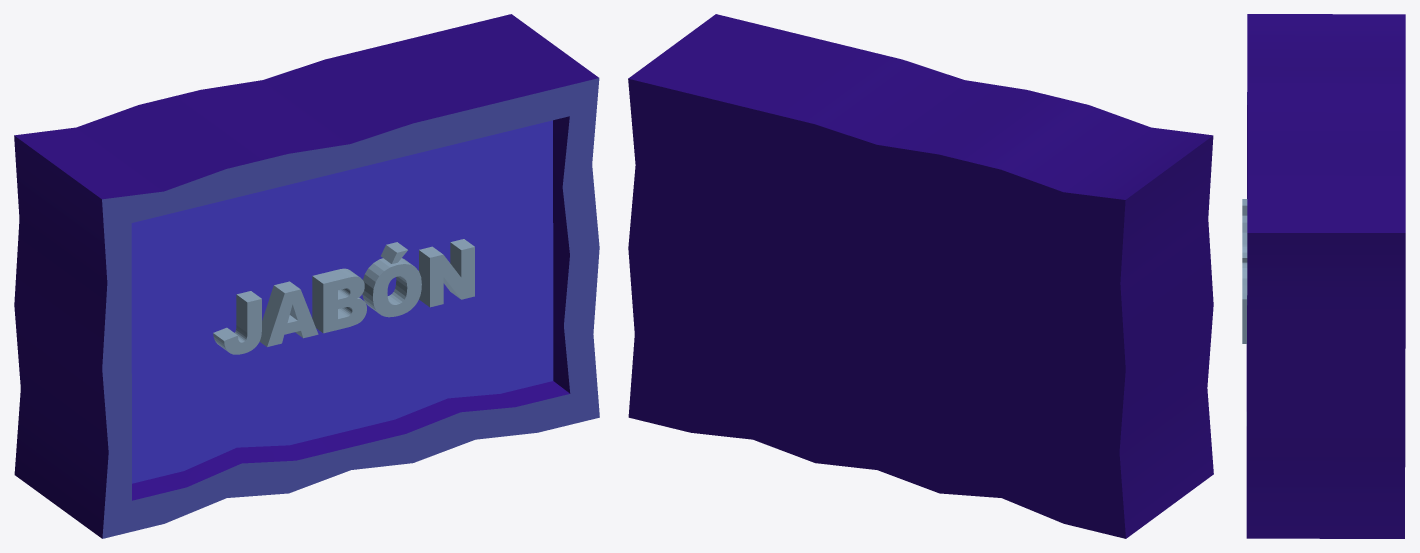
The model's file is jabon.glb.
3 views of the same model, side by side, from view 1: azimuth 30°, elevation 25°; view 2: azimuth 150°, elevation 25°; view 3: azimuth 270°, elevation 25° (orthographic). The views are drawn at different scales.
Visible parts, largest first — view 1: Jabon_Barra, Jabon_Texto; view 2: Jabon_Barra; view 3: Jabon_Barra, Jabon_Texto.
Part boxes in pixels (x1=…): Jabon_Barra: x1=14, y1=14, x2=599, y2=538; Jabon_Texto: x1=213, y1=239, x2=474, y2=354; Jabon_Barra: x1=628, y1=14, x2=1213, y2=538; Jabon_Barra: x1=1246, y1=14, x2=1405, y2=538; Jabon_Texto: x1=1242, y1=199, x2=1247, y2=343.
Size of the model in its own units: 2.61 by 1.71 by 0.8263.
